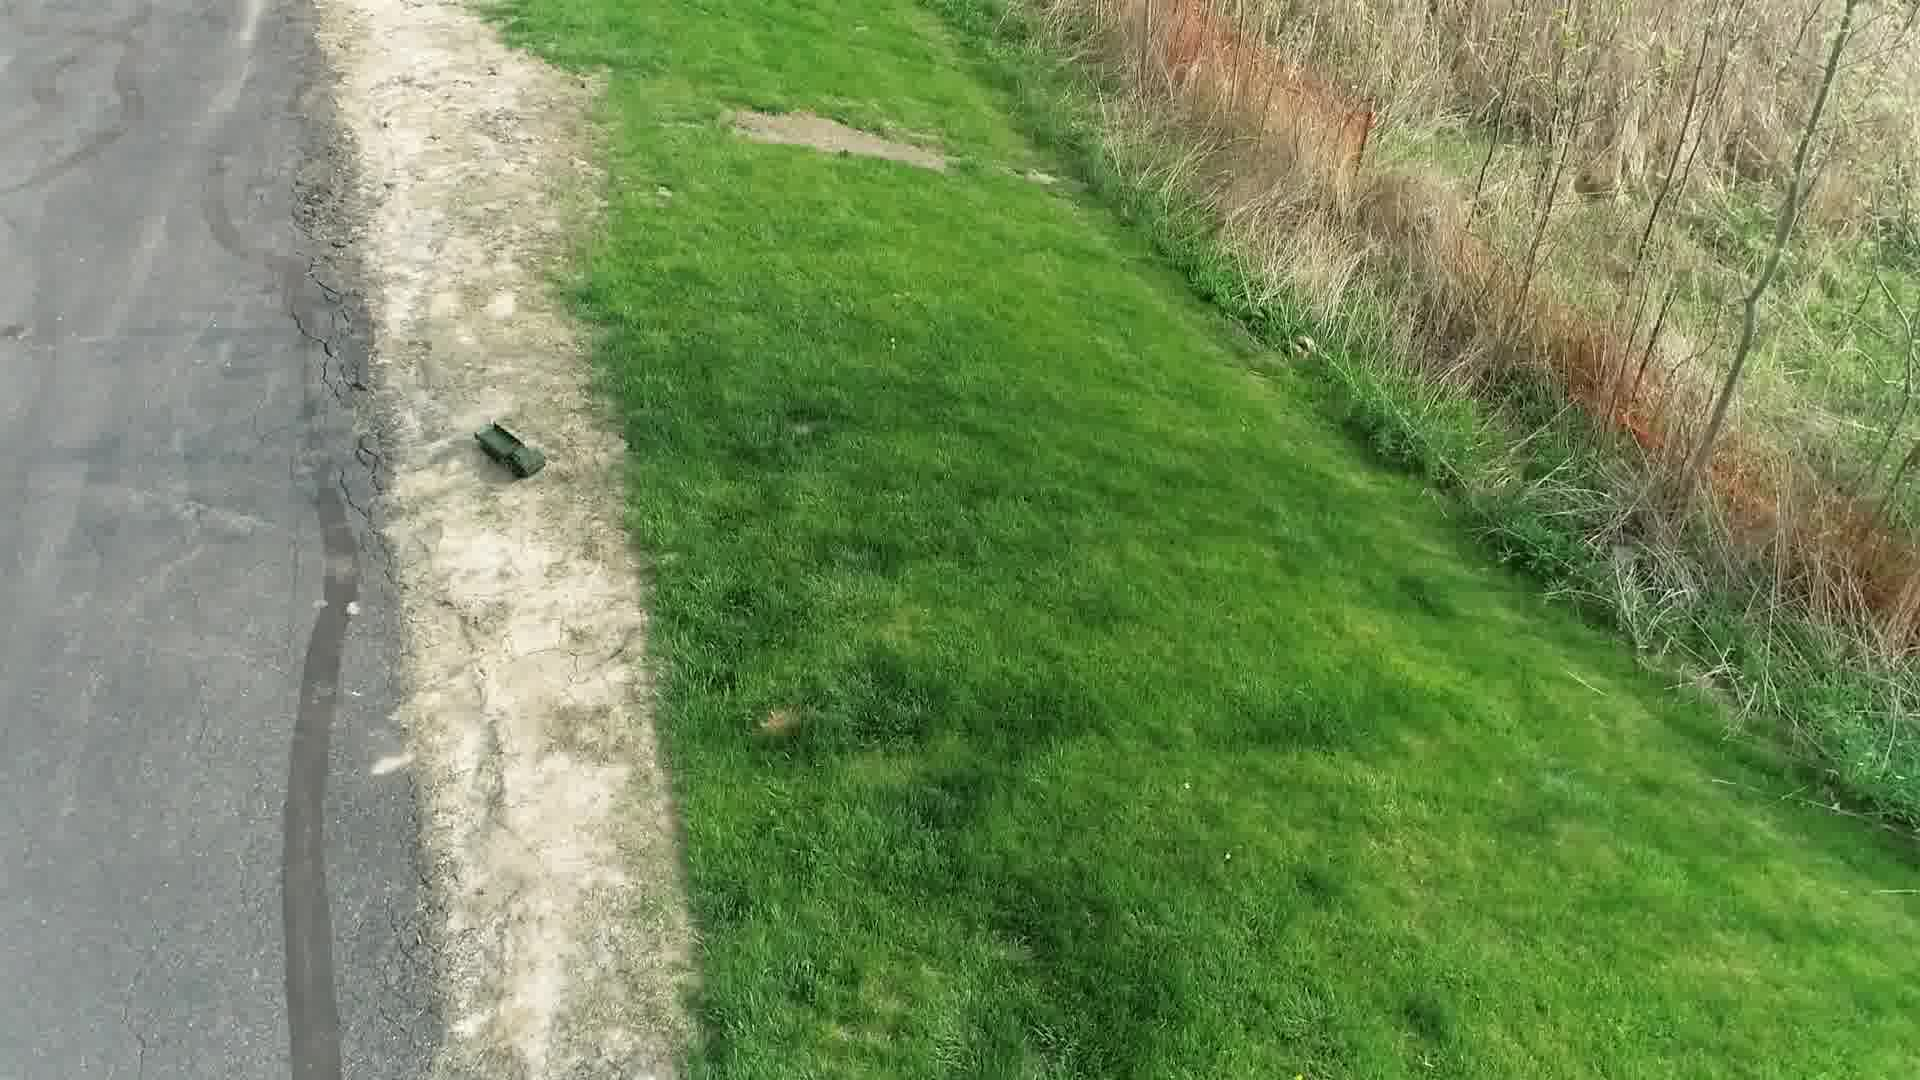transporter9: (472, 415, 551, 480)
